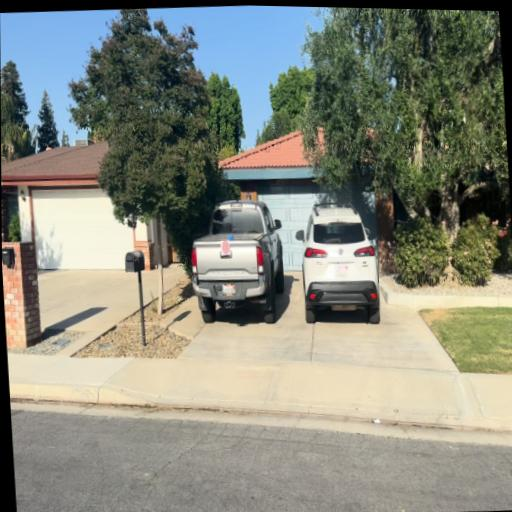bullseye: (221, 240, 230, 256)
